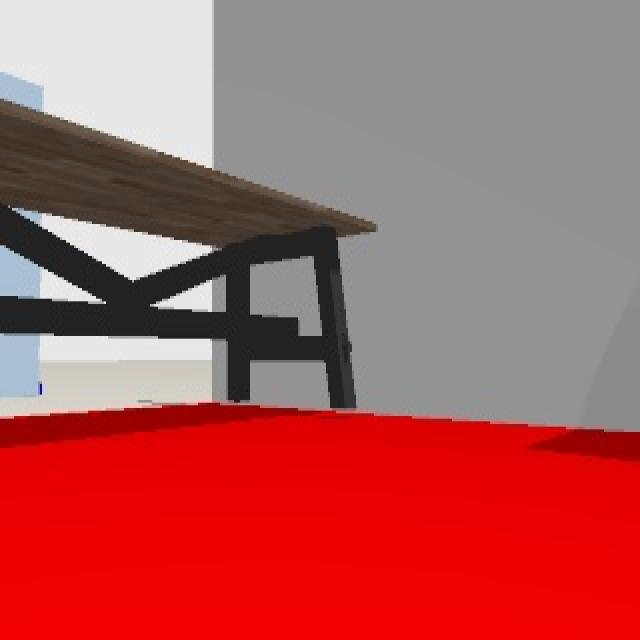dining: (0, 95, 378, 417)
